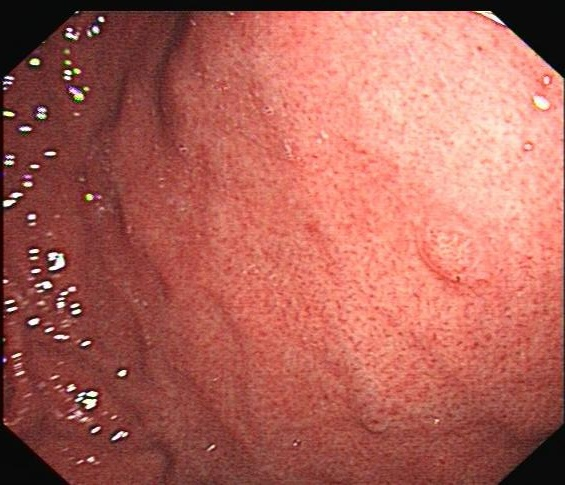Polyp: (426, 230, 484, 286)
